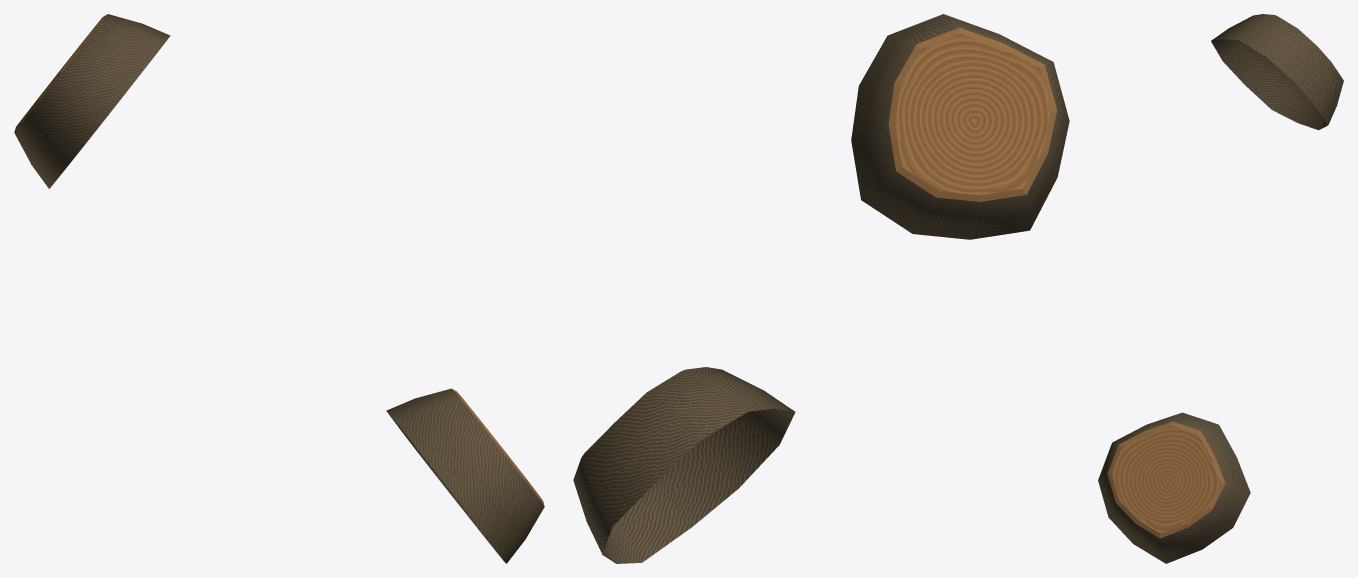
The model's file is Sessile_Oak_Young_01_LowPruned_Recent_LOD1.fbx.
3 views of the same model, side by side, from view 1: azimuth 30°, elevation 25°; view 2: azimuth 150°, elevation 25°; view 3: azimuth 270°, elevation 25° (orthographic). The views are drawn at different scales.
Visible parts, largest first — view 1: Sessile_Oak_Young_01_LowPruned_Recent_LOD1_Scars; view 2: Sessile_Oak_Young_01_LowPruned_Recent_LOD1_Scars; view 3: Sessile_Oak_Young_01_LowPruned_Recent_LOD1_Scars.
Part boxes in pixels (x1,y1,x2,y2): Sessile_Oak_Young_01_LowPruned_Recent_LOD1_Scars: (14,14,544,563); Sessile_Oak_Young_01_LowPruned_Recent_LOD1_Scars: (573,14,1069,563); Sessile_Oak_Young_01_LowPruned_Recent_LOD1_Scars: (1098,14,1343,563).
Size of what is drawn, in the model's own units: 25.43 by 31.4 by 16.36.
Materials: 2 (2 with a texture image).
